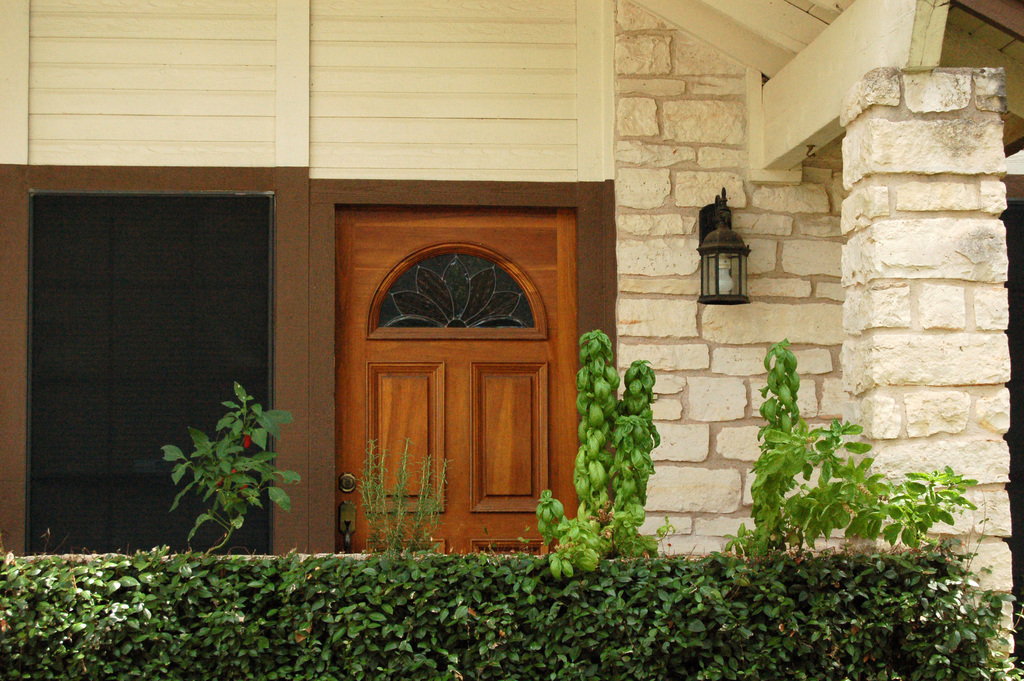door: (335, 218, 566, 546)
handle: (340, 503, 354, 547)
